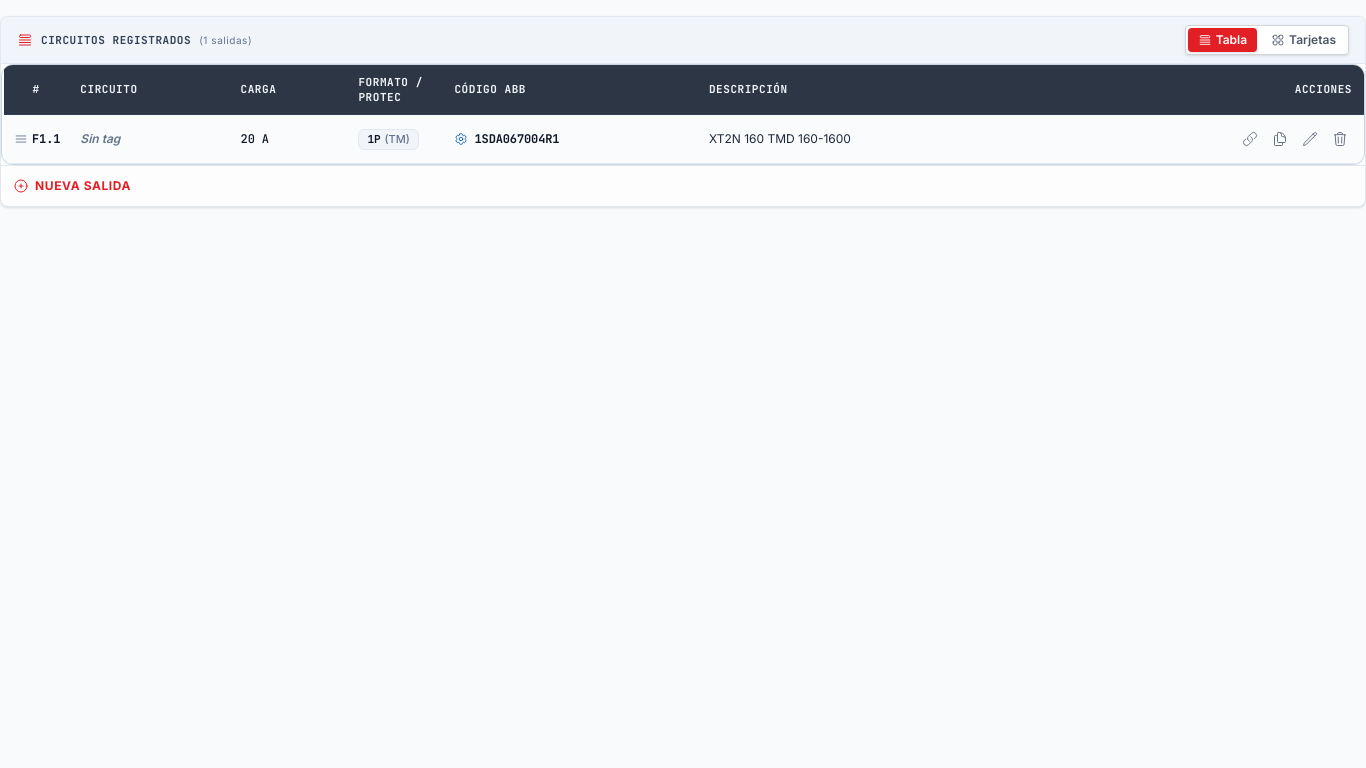
Test: SeccionBlock › shows the readable codigo (not the raw id) in the edit modal
The width and height of the screenshot is (1366, 768).
Click the button named "editar salida 20 a".
click(1310, 139)  # box [1298,127,1322,151]
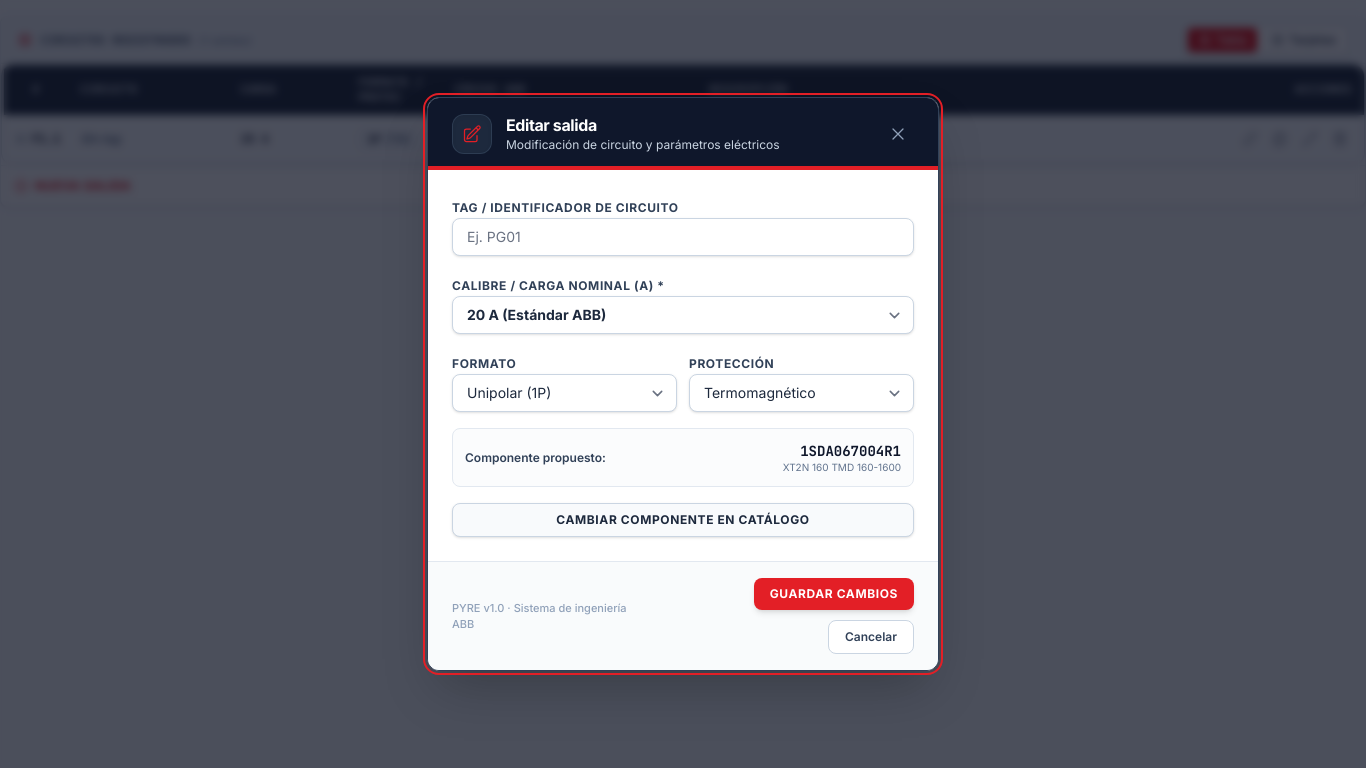
expect the text "1SDA067004R1" is shown: met, box [783,441,901,461]
